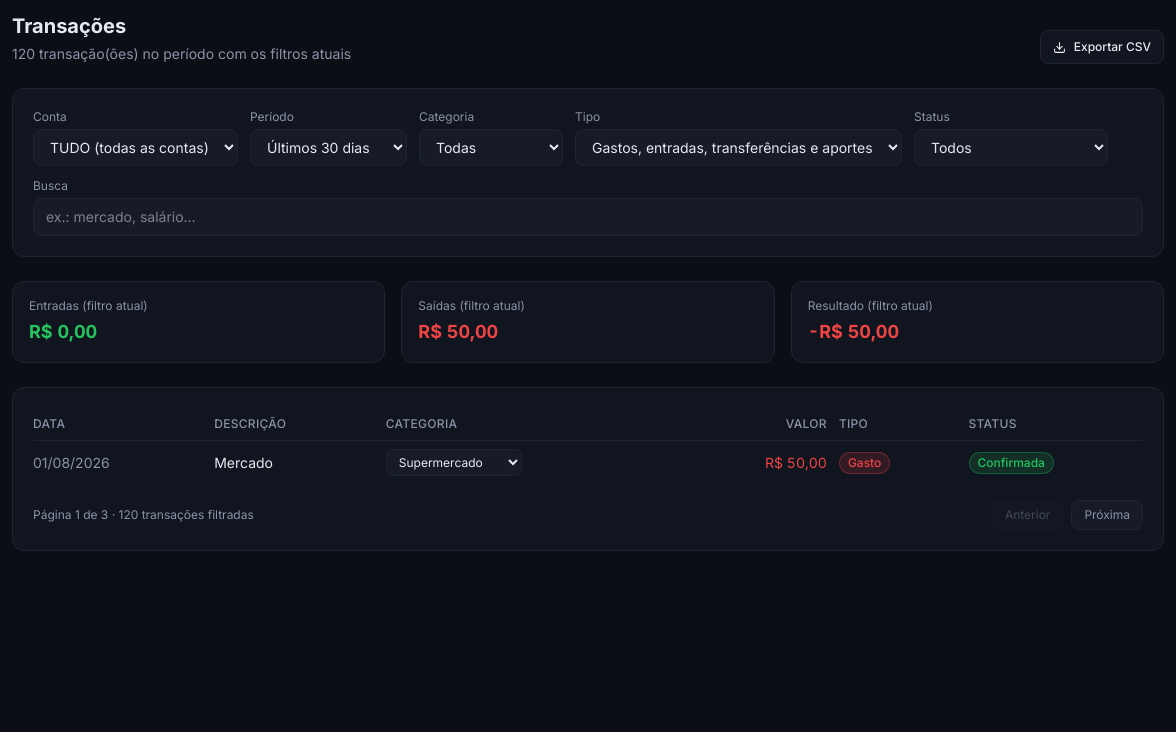
Test: TransactionsPage › AC-008: pagina resultados e desabilita os limites
expect the text "Página 1 de 3 · 120 transações filtradas" is shown: met, box [33,507,254,523]
expect the button "Anterior" is disabled: met, box [992,500,1063,530]
Click the button "Próxima" at (1107, 515), box [1071,500,1143,530]
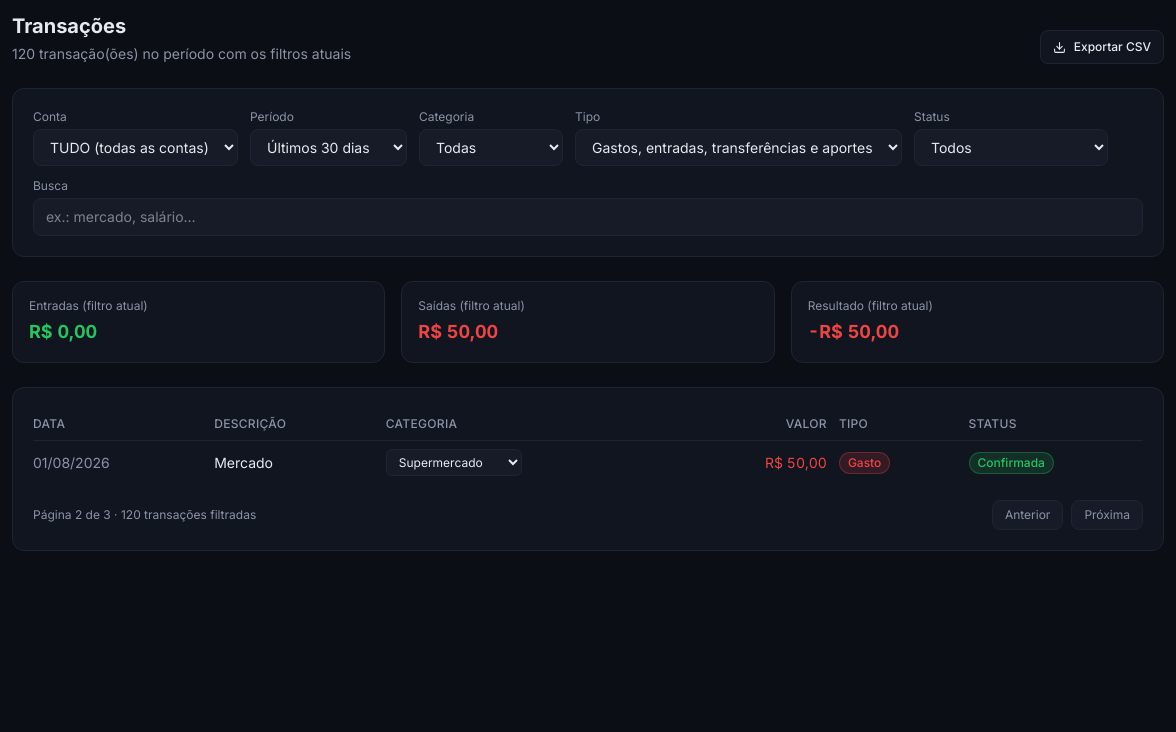
expect the text "Página 2 de 3 · 120 transações filtradas" is shown: met, box [33,507,256,523]
Click the button "Próxima" at (1107, 515), box [1071,500,1143,530]
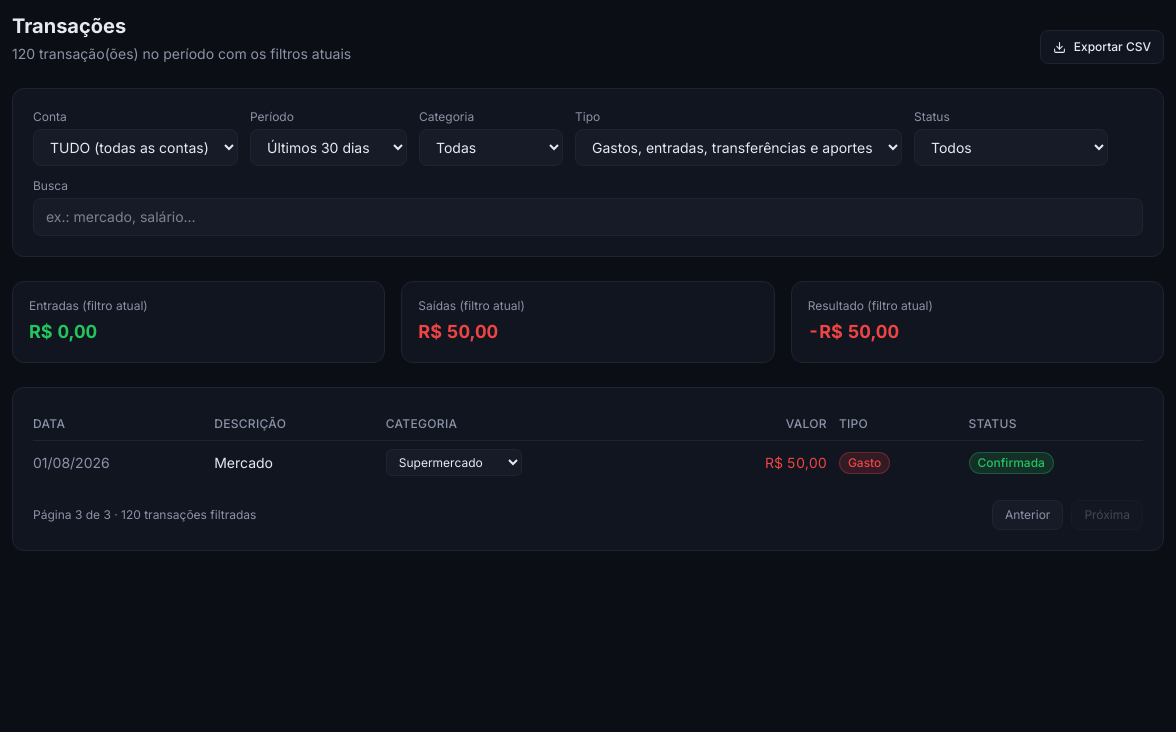
expect the text "Página 3 de 3 · 120 transações filtradas" is shown: met, box [33,507,256,523]
expect the button "Próxima" is disabled: met, box [1071,500,1143,530]
